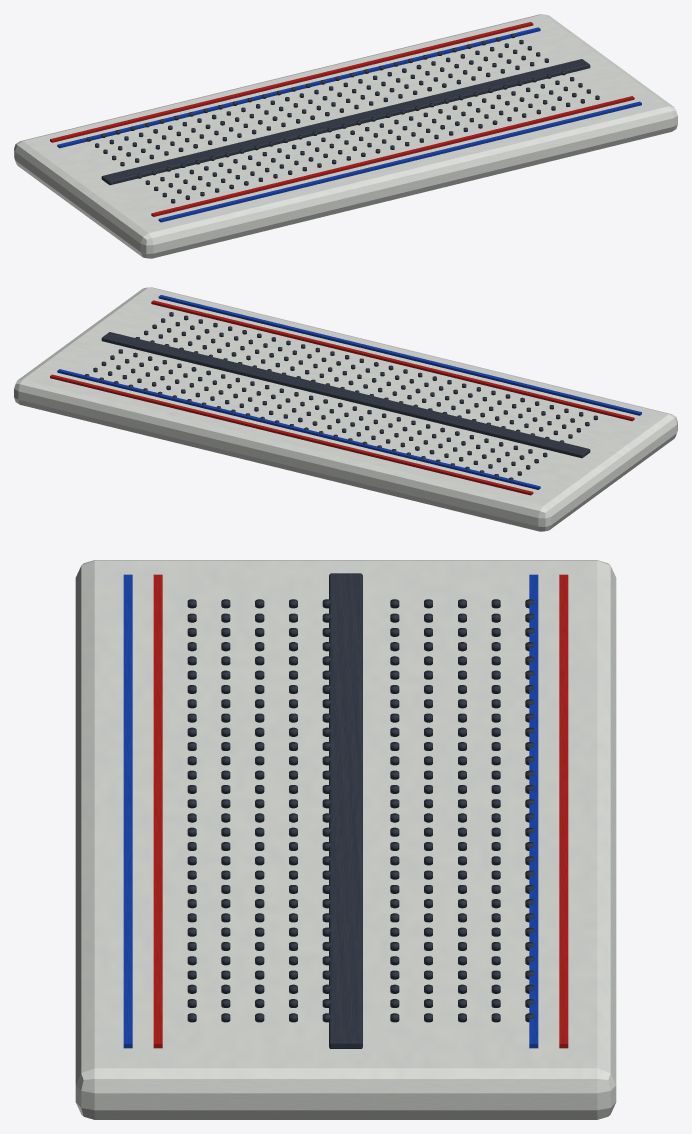
The model's file is Breadboard.obj.
The picture shows the model from 3 angles, top to bottom: view 1: azimuth 30°, elevation 25°; view 2: azimuth 150°, elevation 25°; view 3: azimuth 270°, elevation 25°; orthographic projection. The views are drawn at different scales.
Visible parts, largest first — view 1: Breadboard_Base, Center_Channel, Power_Rail.003, Power_Rail, Power_Rail.002, Power_Rail.001; view 2: Breadboard_Base, Center_Channel, Power_Rail, Power_Rail.002, Power_Rail.003, Power_Rail.001; view 3: Breadboard_Base, Center_Channel, Power_Rail, Power_Rail.002, Power_Rail.003, Power_Rail.001.
Boxes of the visible parts, bbox=[...] form: Breadboard_Base: bbox=[14, 14, 677, 258]; Center_Channel: bbox=[101, 59, 590, 185]; Power_Rail.003: bbox=[158, 101, 641, 222]; Power_Rail: bbox=[50, 22, 533, 142]; Power_Rail.002: bbox=[151, 96, 634, 216]; Power_Rail.001: bbox=[57, 27, 540, 148]; Breadboard_Base: bbox=[14, 287, 677, 531]; Center_Channel: bbox=[101, 332, 590, 458]; Power_Rail: bbox=[50, 374, 533, 495]; Power_Rail.002: bbox=[151, 300, 634, 421]; Power_Rail.003: bbox=[158, 295, 641, 415]; Power_Rail.001: bbox=[57, 369, 540, 489]; Breadboard_Base: bbox=[75, 560, 616, 1119]; Center_Channel: bbox=[329, 573, 362, 1048]; Power_Rail: bbox=[559, 574, 568, 1048]; Power_Rail.002: bbox=[153, 574, 162, 1048]; Power_Rail.003: bbox=[123, 574, 132, 1048]; Power_Rail.001: bbox=[529, 574, 538, 1048].
Bounding box in the file's own units: 1.65 × 0.0855 × 0.72.
